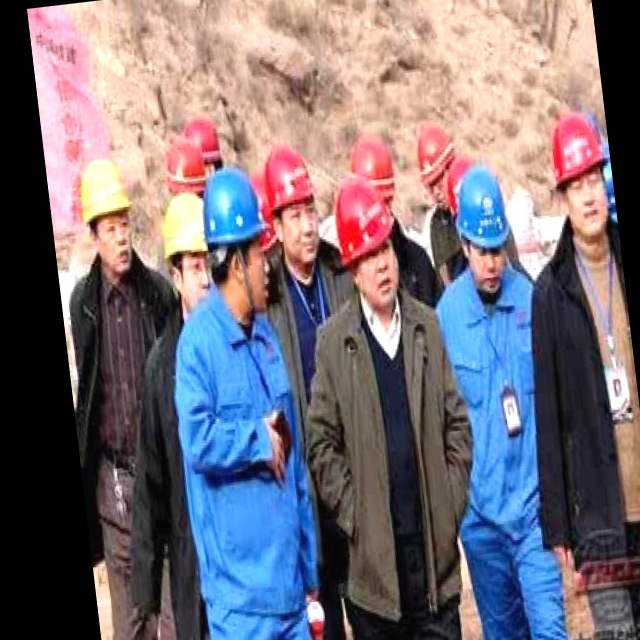Con_Casco: (198, 168, 271, 305), (329, 174, 402, 299)
Sin_Chaleco: (322, 299, 468, 593)
